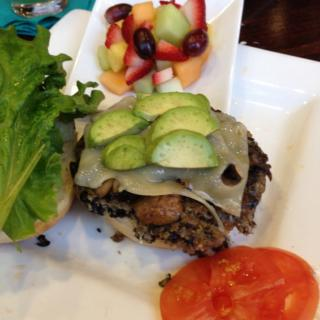tomato: (160, 246, 282, 320), (252, 247, 316, 320)
